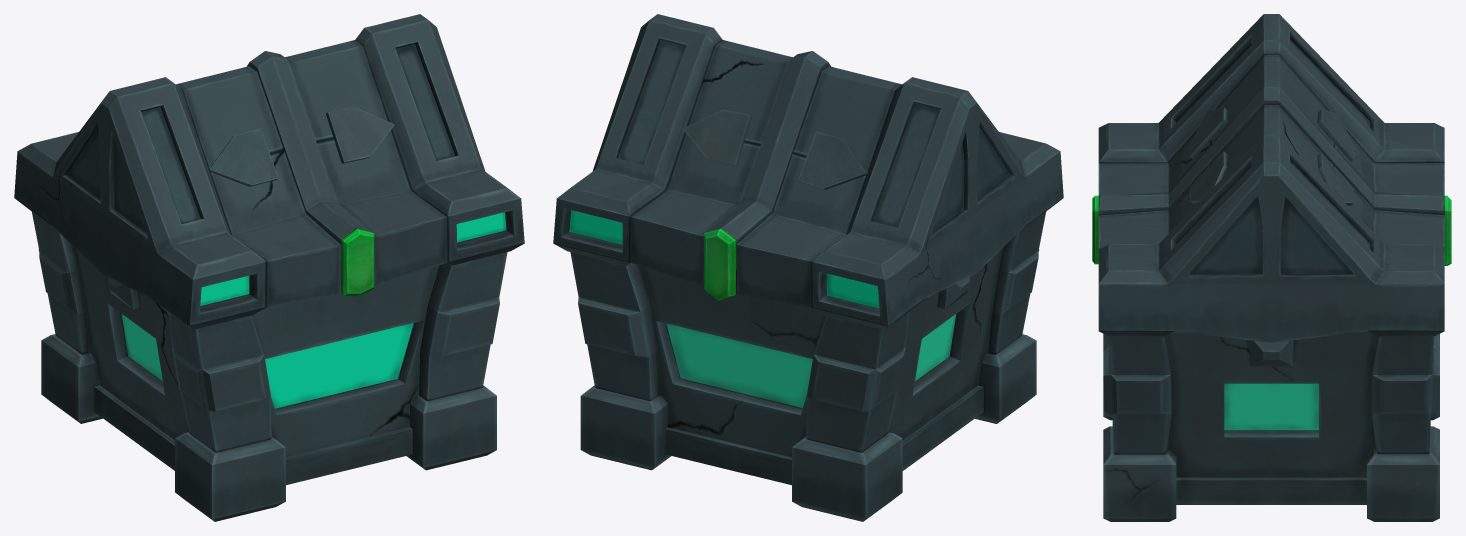
The model's file is stone_chest.glb.
3 views of the same model, side by side, from view 1: azimuth 30°, elevation 25°; view 2: azimuth 150°, elevation 25°; view 3: azimuth 270°, elevation 25° (orthographic).
Visible parts, largest first — view 1: Stone_Chest_Top, Stone_Chest_Bottom; view 2: Stone_Chest_Top, Stone_Chest_Bottom; view 3: Stone_Chest_Top, Stone_Chest_Bottom.
Part boxes in pixels (<box>): Stone_Chest_Top: <box>14,14,524,329</box>; Stone_Chest_Bottom: <box>31,211,507,521</box>; Stone_Chest_Top: <box>553,14,1063,329</box>; Stone_Chest_Bottom: <box>570,211,1046,521</box>; Stone_Chest_Top: <box>1092,14,1451,342</box>; Stone_Chest_Bottom: <box>1103,331,1439,521</box>.
Size of the model in its own units: 0.4674 by 0.5006 by 0.4407.
Materials: 1 (1 with a texture image).
